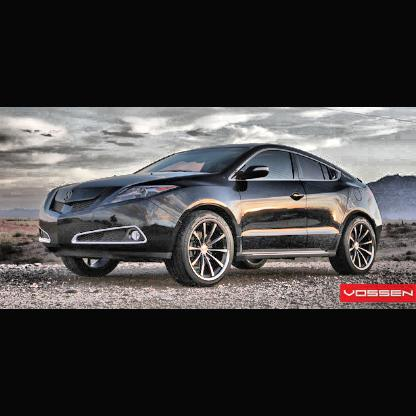Acura ZDX Hatchback 2012: (38, 142, 384, 288)
